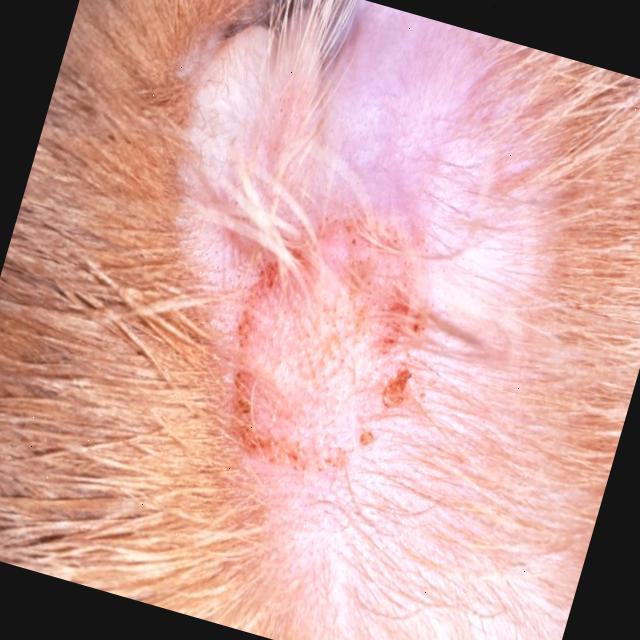cat-dermatitis: (198, 178, 460, 497)
